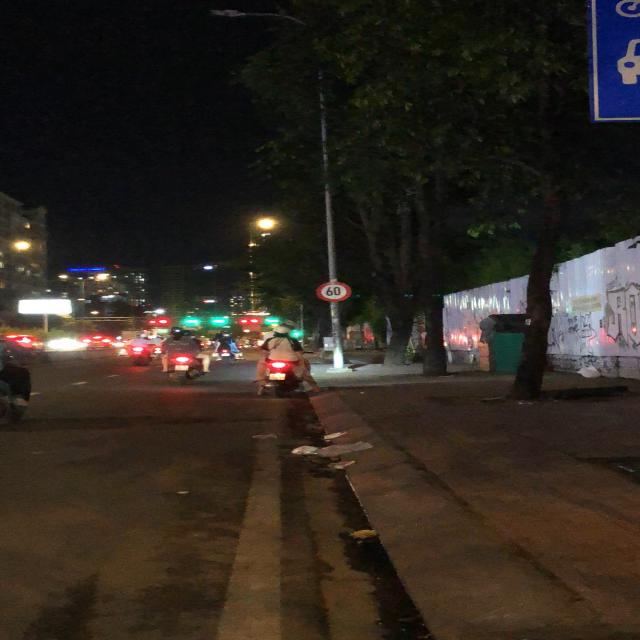Bien bao toc do toi da cho phep: (314, 280, 355, 302)
